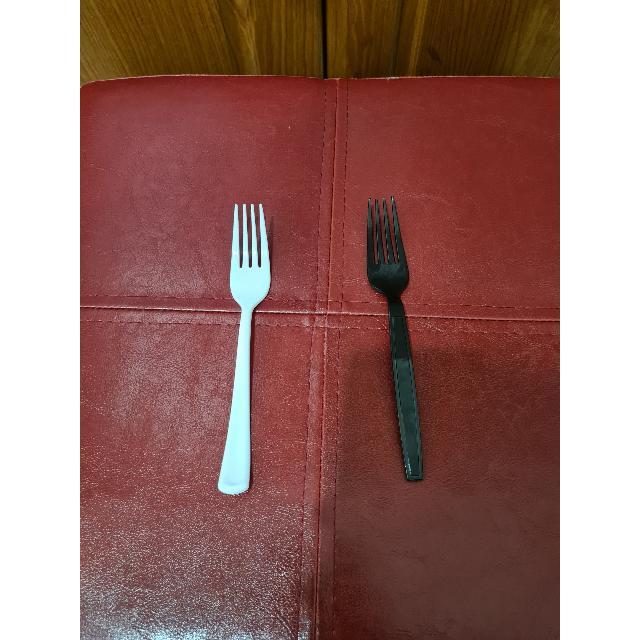Plastico descartable: (218, 204, 271, 494), (368, 197, 422, 480)
